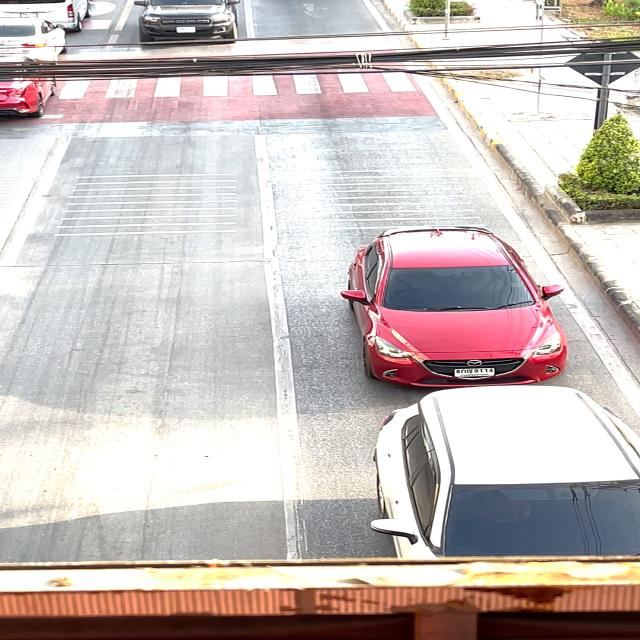car: (347, 368, 640, 558), (309, 215, 601, 386), (122, 0, 248, 55)
